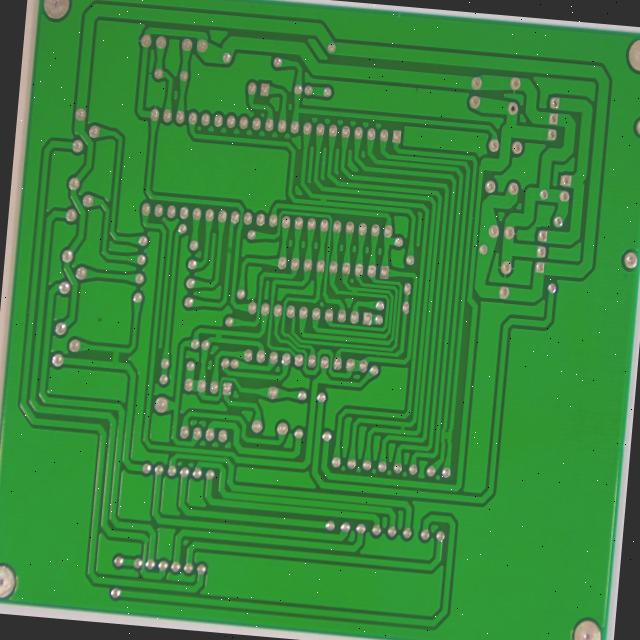short: (103, 344, 125, 369), (210, 327, 225, 344), (439, 428, 455, 443), (395, 420, 409, 435), (316, 193, 330, 208)
